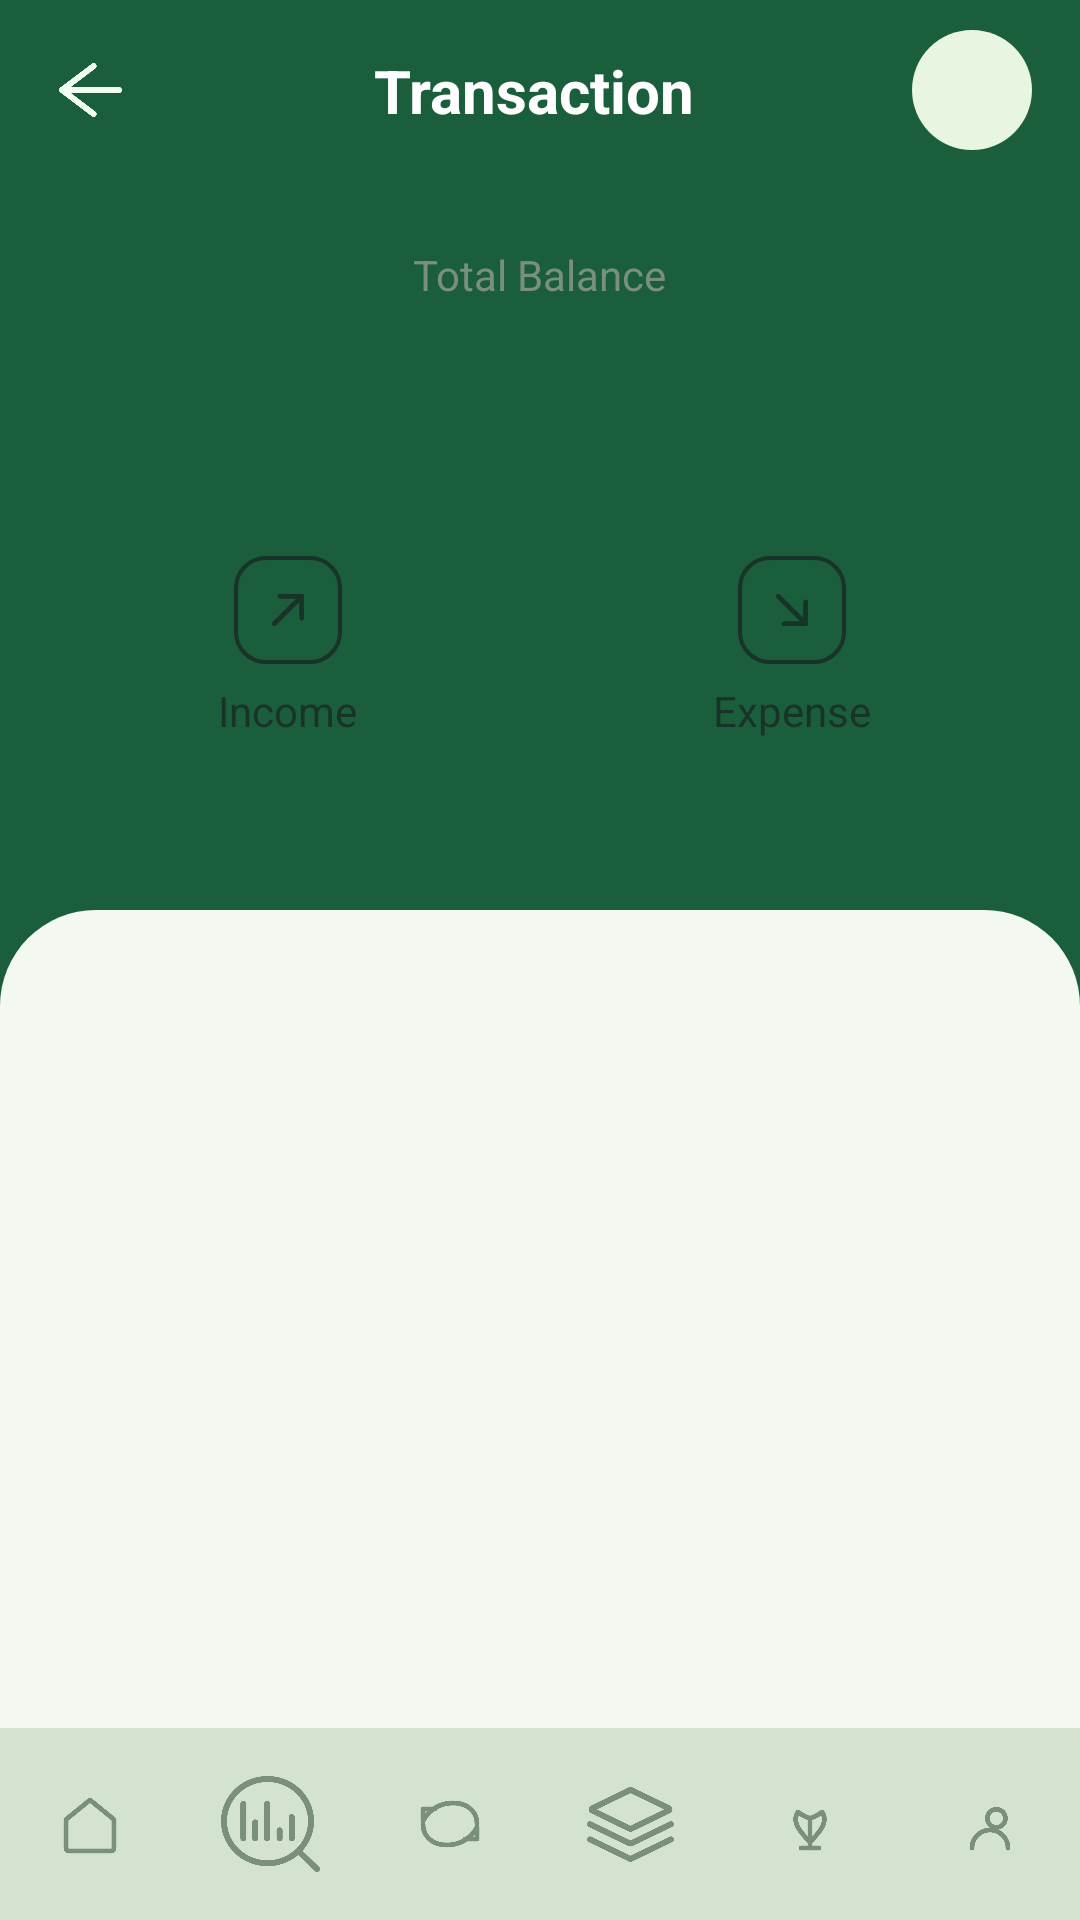

Named icons in this screenshot (1080x1920) and their bounding boxes, (x1, y1, x2, y2):
Analytics: (221, 1776, 320, 1872)
Back: (59, 63, 122, 117)
Categories: (587, 1787, 674, 1862)
Goals: (793, 1810, 827, 1850)
Home: (64, 1798, 116, 1853)
Profile: (970, 1807, 1010, 1850)
Transactions: (421, 1801, 479, 1847)
